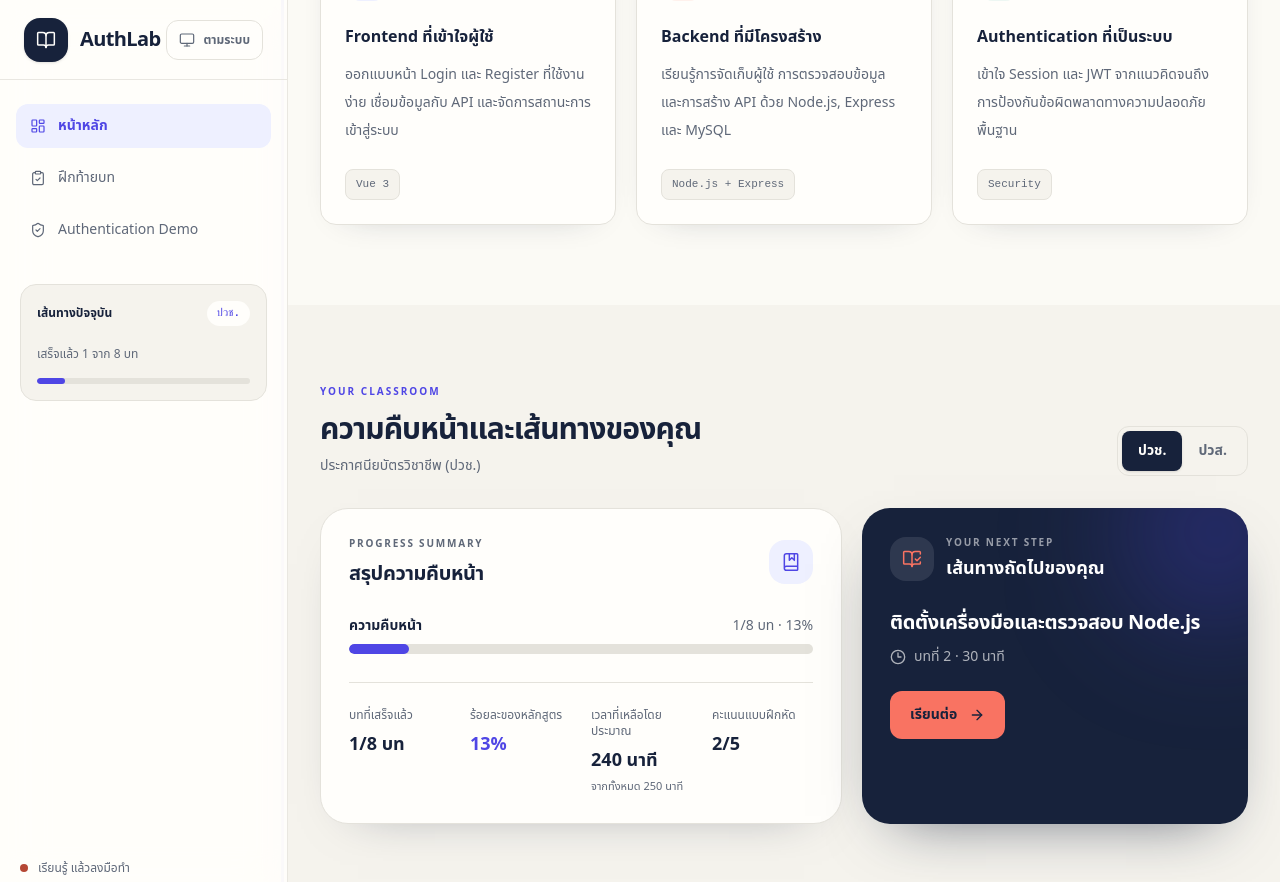
Dashboard › preserves course-map quiz status and scores when switching tracks
(page scrolled)
Click the button "ปวส." at (1213, 451), box 1182,431 -> 1243,471
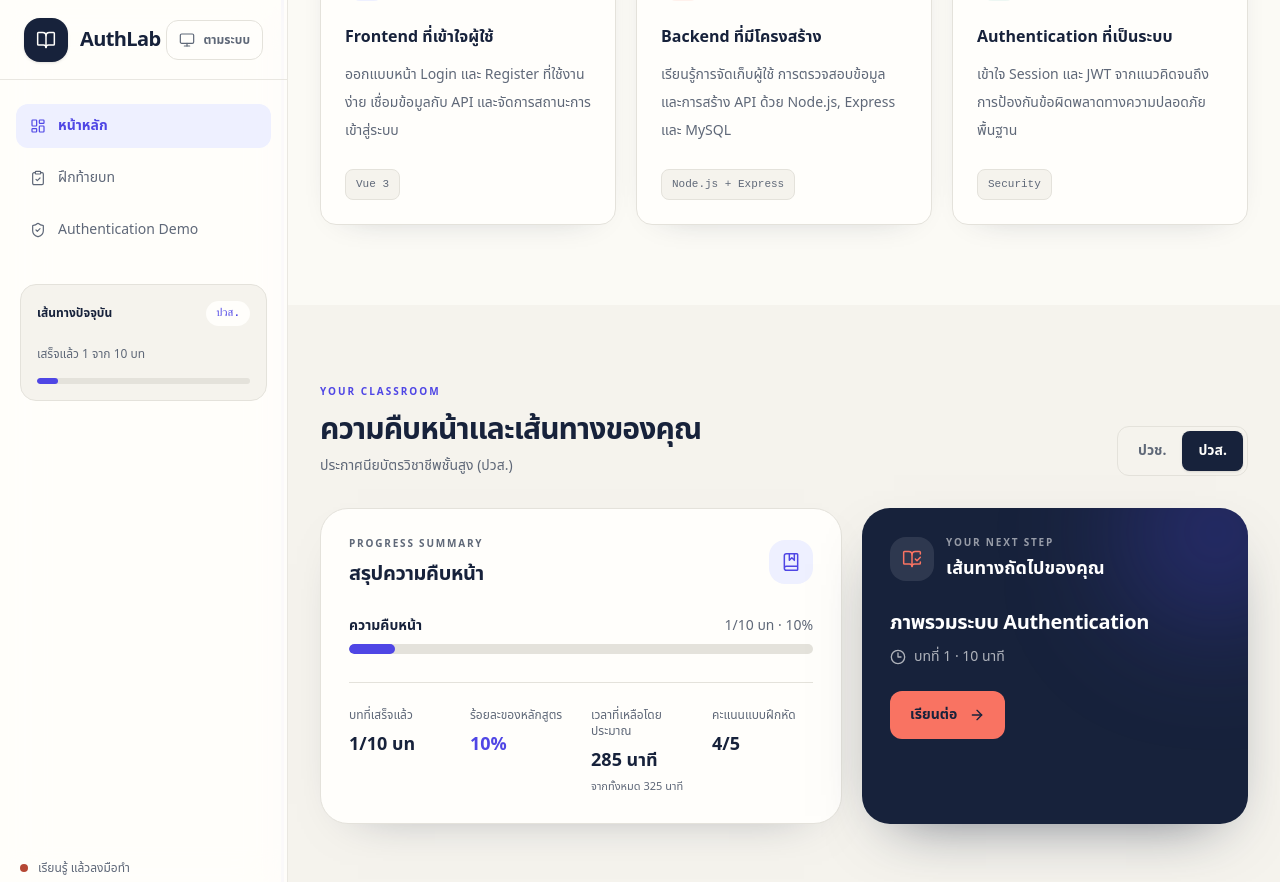
expect the progress indicator named "ความคืบหน้า" has attribute aria-valuenow="10": met, box 349,644 -> 813,654
Click the button "ปวช." at (1152, 451), box 1122,431 -> 1182,471
(page scrolled)
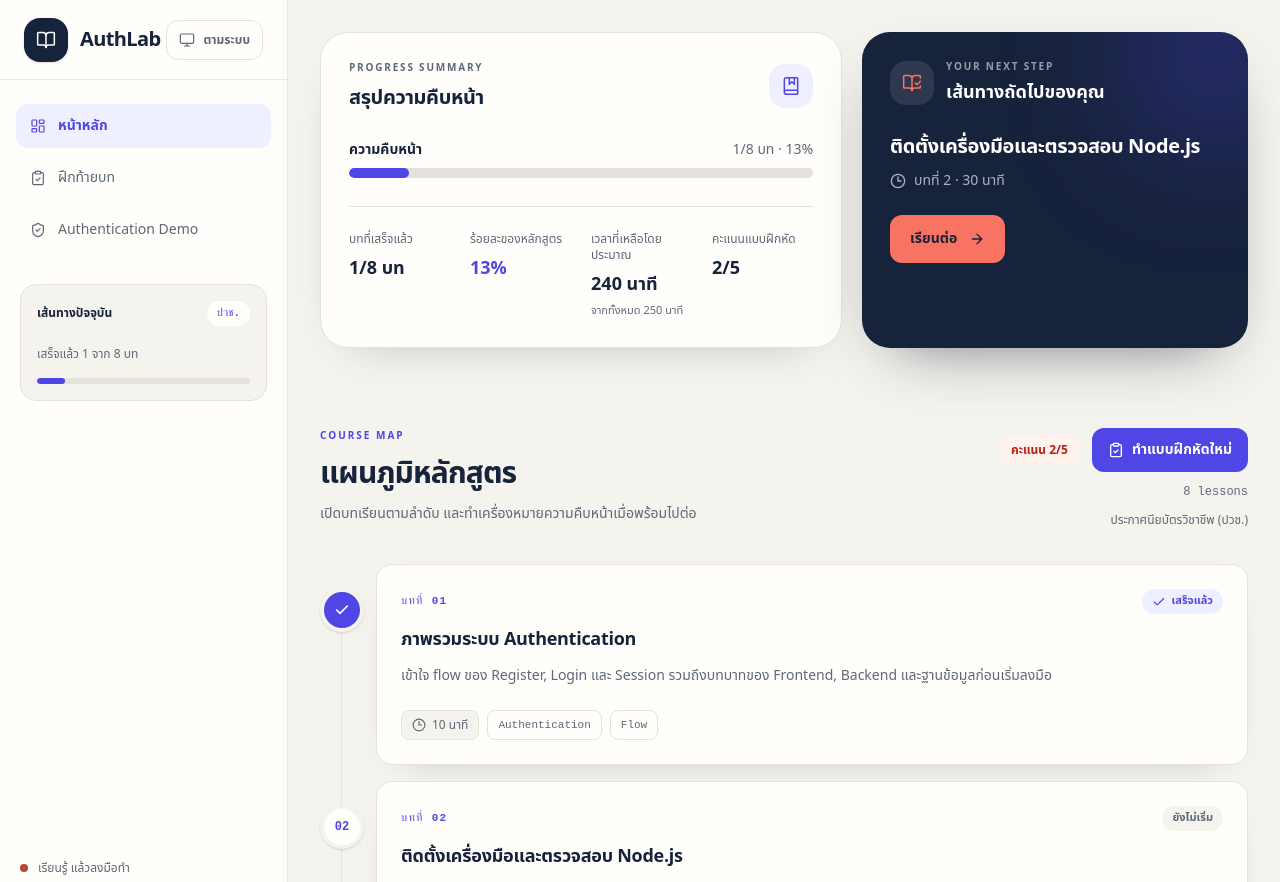
expect the text "คะแนน 2/5" is shown: met, box 999,436 -> 1080,464
expect the link "ทำแบบฝึกหัดใหม่" is shown: met, box 1092,428 -> 1248,472
